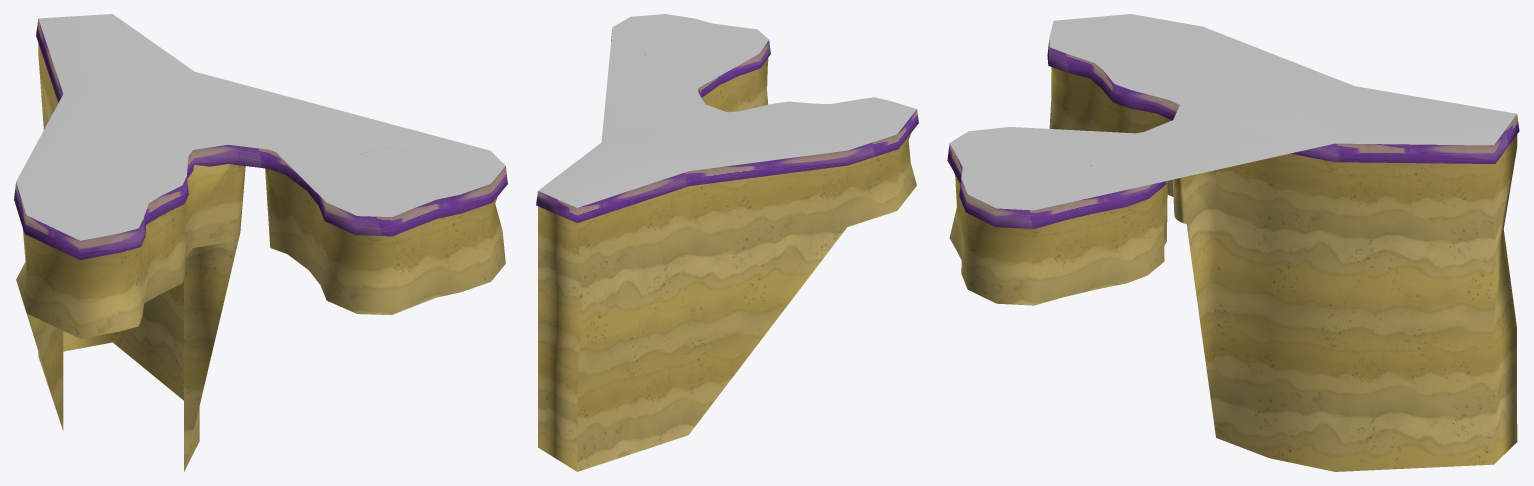
The model's file is lighthouse island mesh.fbx.
3 renders of one model, left to right at view 1: azimuth 30°, elevation 25°; view 2: azimuth 150°, elevation 25°; view 3: azimuth 270°, elevation 25°, orthographic. The views are drawn at different scales.
Visible parts, largest first — view 1: polySurface12; view 2: polySurface12; view 3: polySurface12.
Part boxes in pixels (<box>): polySurface12: <box>14,14,507,471</box>; polySurface12: <box>536,14,918,471</box>; polySurface12: <box>947,14,1519,471</box>.
Size of the model in its own units: 0.7347 by 0.5681 by 0.8969.
